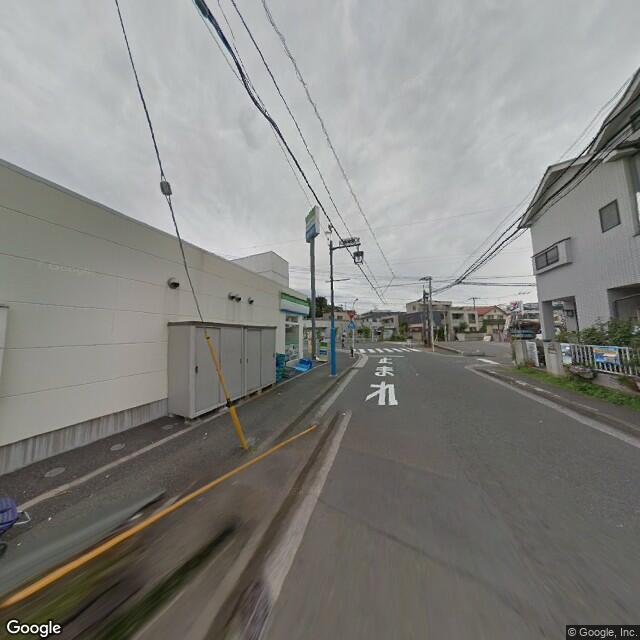family_mart: (277, 293, 313, 320), (305, 204, 319, 240)
